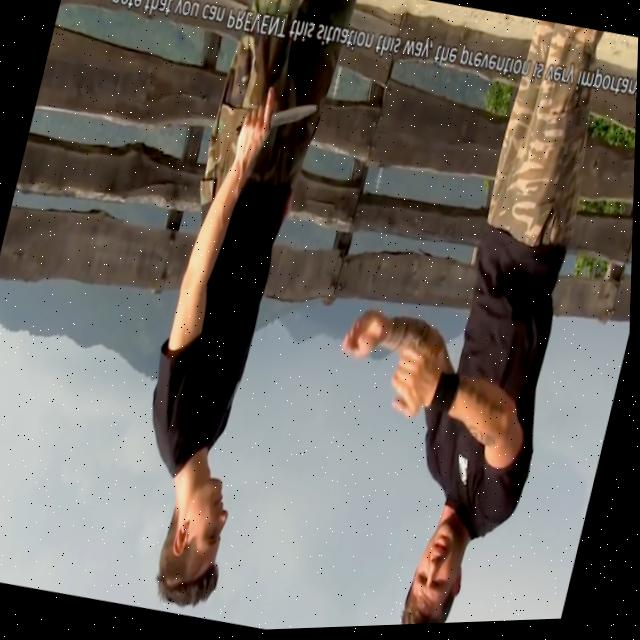knife: (269, 94, 318, 138)
